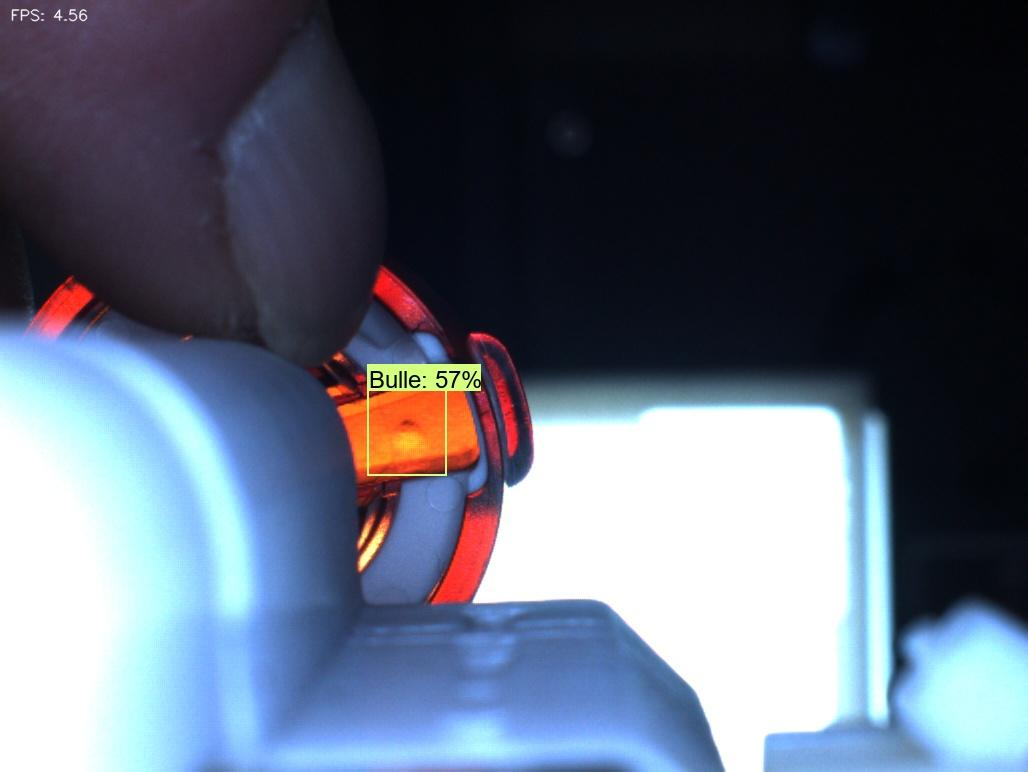Retassure: (373, 406, 438, 472)
